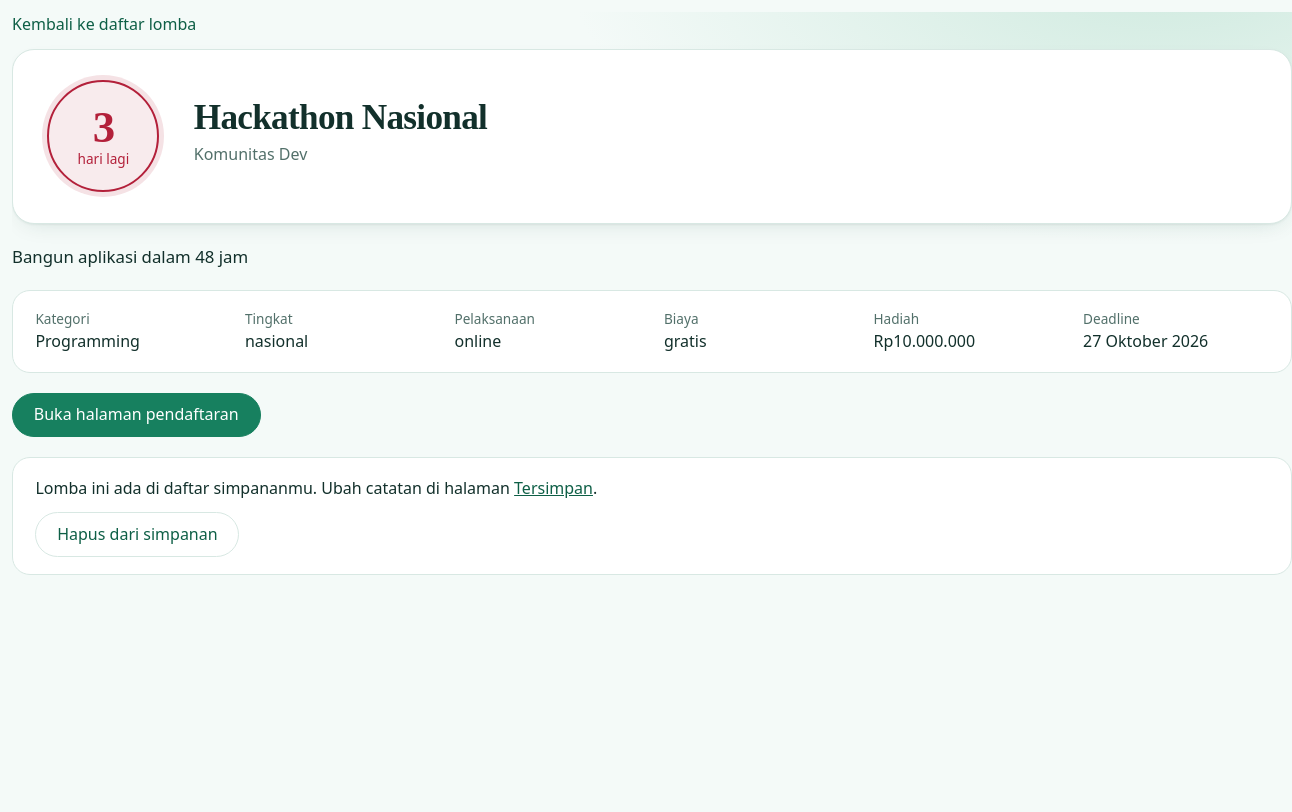
Test: Detail lomba › lomba yang sudah tersimpan bisa dilepas
Click the button "Hapus dari simpanan" at (137, 535), box [35,512,239,557]
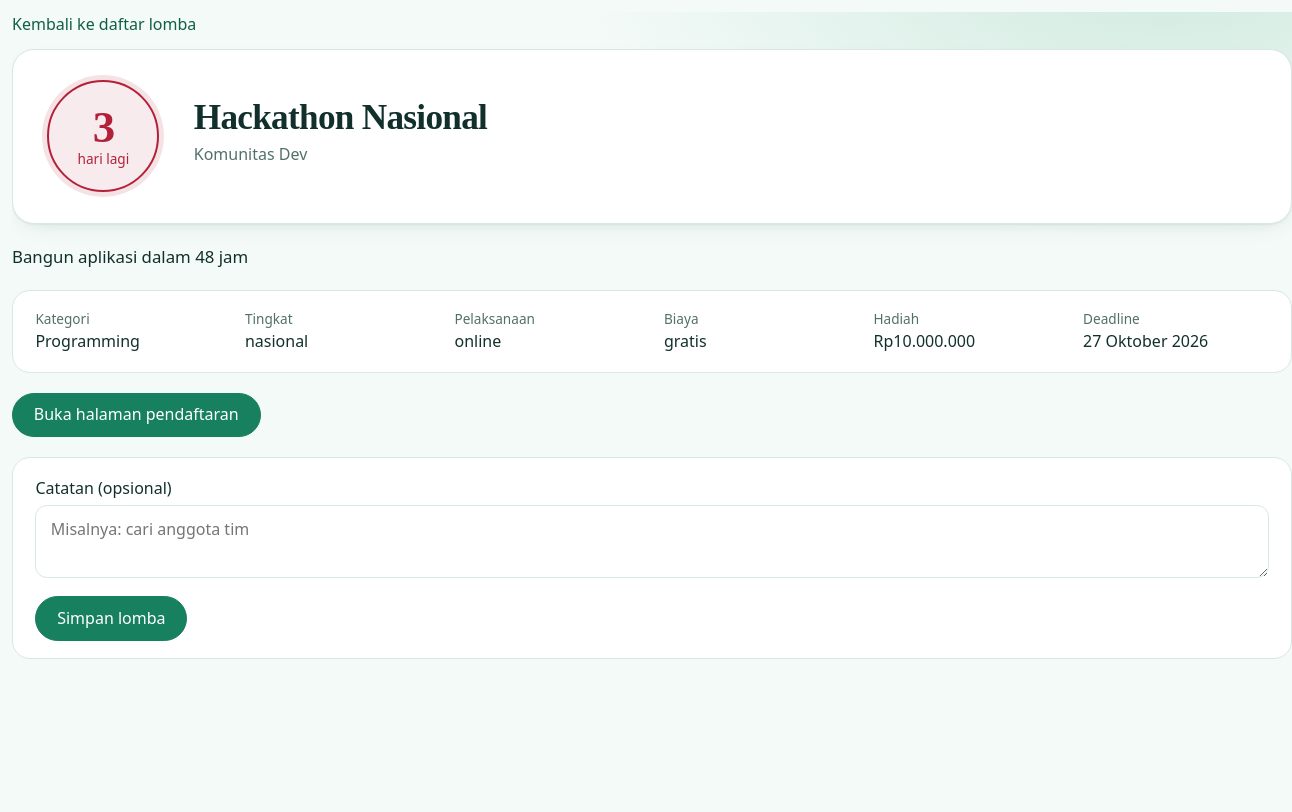
Expected: the button "Simpan lomba" is shown, [35,596,187,641]
